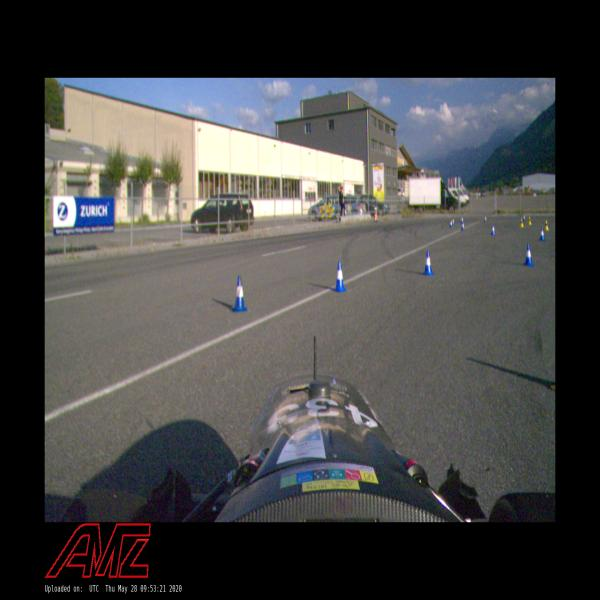blue_cone: (232, 276, 247, 312), (332, 260, 348, 292), (423, 250, 435, 276), (524, 242, 534, 266), (539, 226, 546, 242), (491, 223, 496, 235), (460, 221, 465, 231), (449, 220, 453, 227), (452, 217, 455, 226), (484, 215, 487, 222), (461, 216, 464, 223), (523, 214, 526, 220)
yellow_cone: (544, 220, 550, 231), (520, 217, 524, 227), (528, 216, 532, 226)
